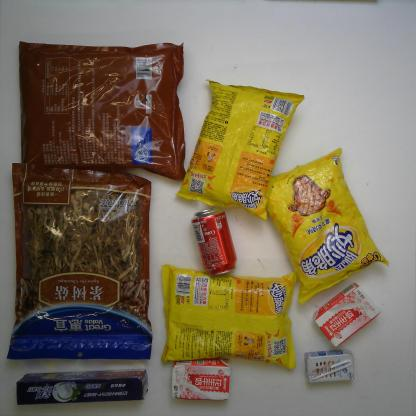Dried Food: (5, 160, 155, 362), (13, 38, 190, 184)
Drink: (188, 205, 239, 280)
Milk: (310, 280, 382, 349), (168, 356, 233, 404), (302, 347, 356, 386)
Personal Hygiene: (13, 367, 151, 410)
Puffed Food: (266, 144, 392, 308), (173, 78, 307, 224), (157, 260, 299, 372)
